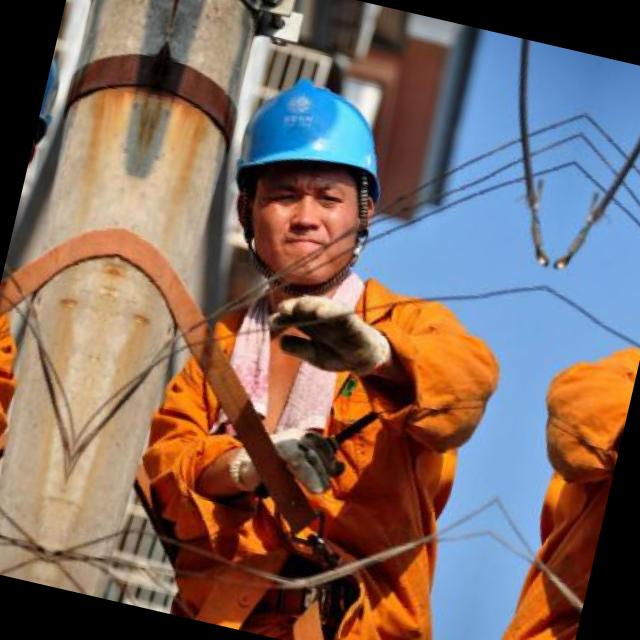helmet: (194, 46, 422, 314)
